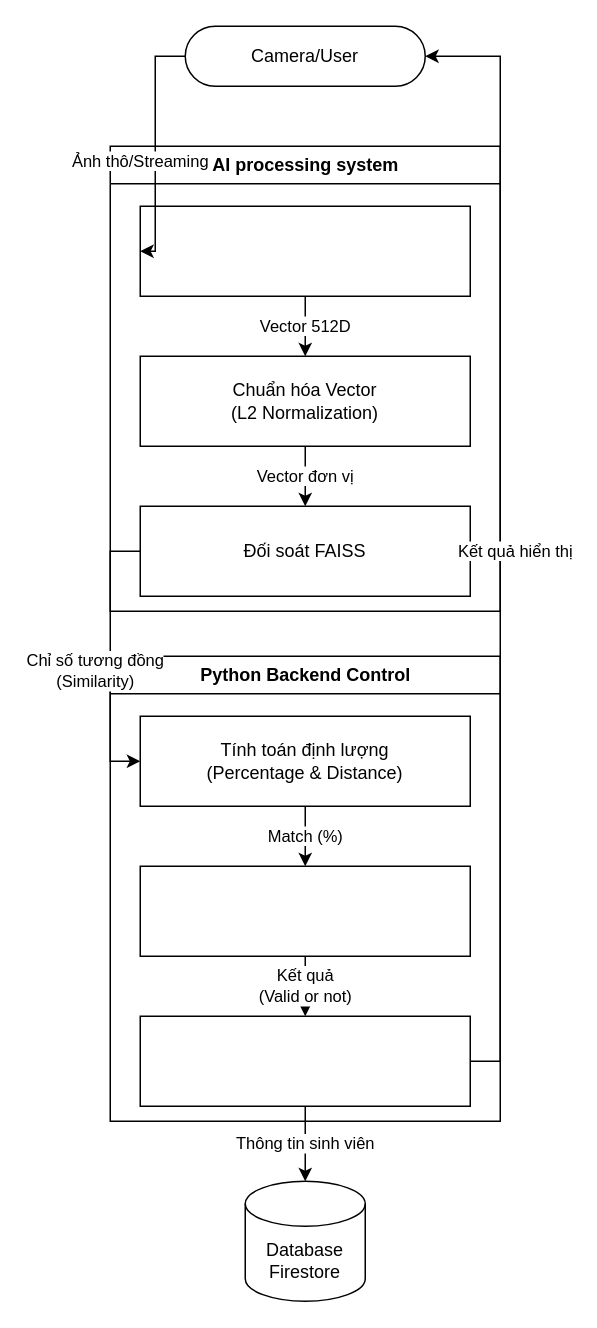
Some shapes in this 597 by 1328 pixel diagram are drawn without their labels. The centre of each missing label's shape, as x and y in pixels:
"Kiểm tra độ tin cậy (Gap & Ratio)" goes at point 304,910.
"Trích xuất đặc trưng (FaceNet512)" goes at point 304,250.
"Xác nhận danh tính" goes at point 304,1060.
